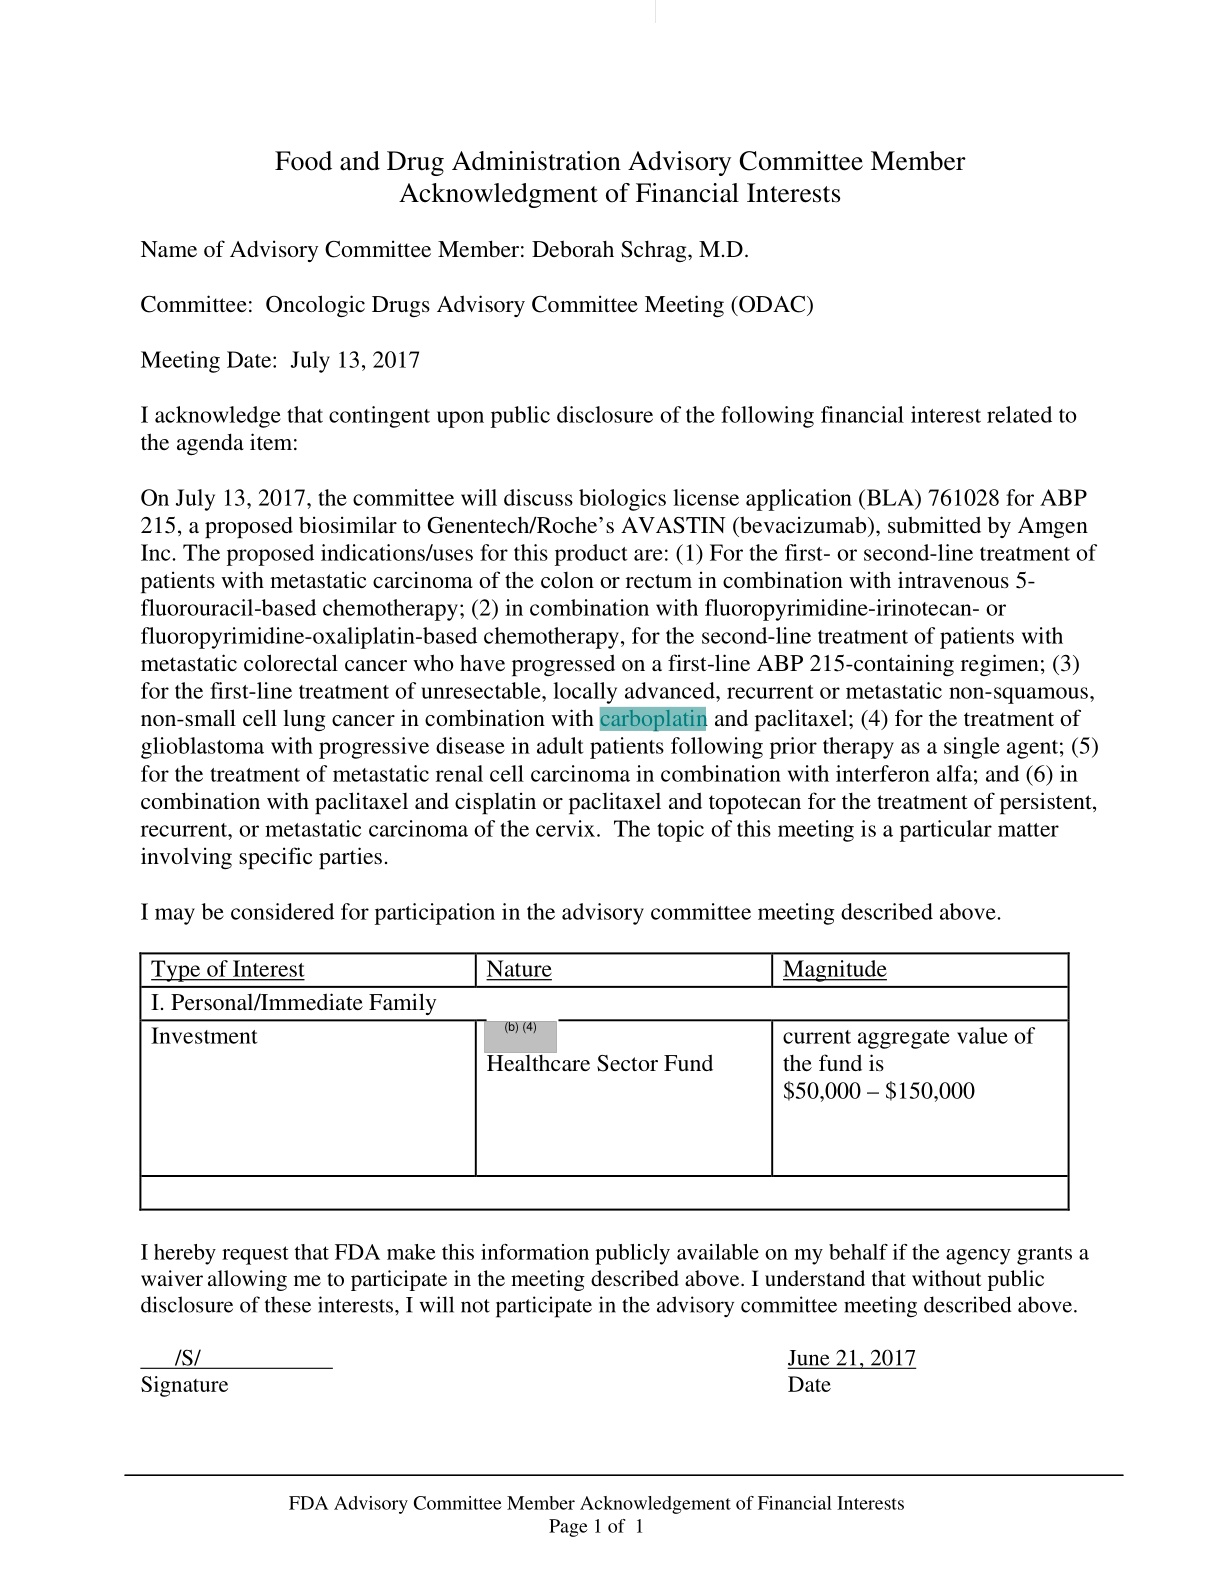merged_cells: (138, 951, 1070, 1212)
